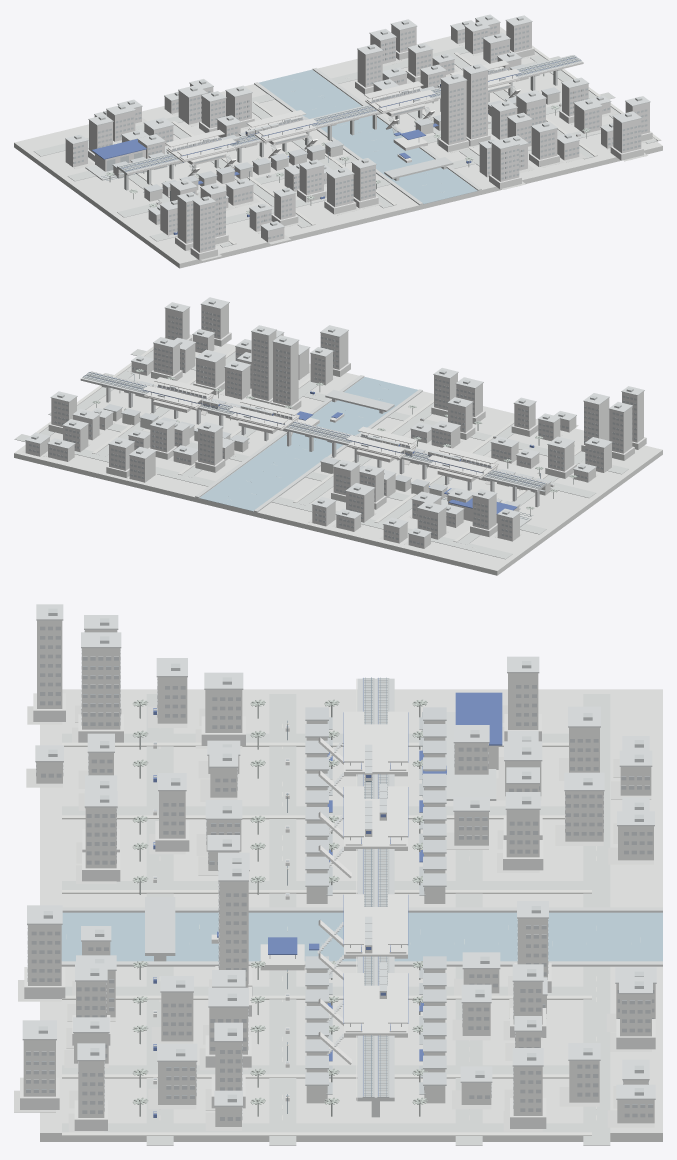
File: bangkok-city.gltf
3 renders of one model, top to bottom at view 1: azimuth 30°, elevation 25°; view 2: azimuth 150°, elevation 25°; view 3: azimuth 270°, elevation 25°, orthographic. The views are drawn at different scales.
Parts seen in each view (by area): view 1: city-building (×33), district-plinth, chao-phraya-river, west-road (×3), track-ballast (×2), local-street (×3), riverbank (×2), viaduct, river-road-bridge, depot-roof, viaduct-front-fascia, east-road; view 2: district-plinth, city-building (×31), chao-phraya-river, local-street (×5), west-road (×3), track-ballast (×2), viaduct, riverbank (×2), east-road, river-road-bridge; view 3: district-plinth, city-building (×30), chao-phraya-river, local-street (×6), west-road (×4), east-road (×4), sidewalk (×6), station-canopy (×8), track-ballast (×2), station-deck (×4), riverbank (×2), viaduct (+5 smaller).
Boxes of the visible parts, <box> form: city-building (×33): <box>65,21,649,252</box>; district-plinth: <box>14,27,662,268</box>; chao-phraya-river: <box>258,69,477,204</box>; west-road (×3): <box>33,94,390,241</box>; track-ballast (×2): <box>118,55,581,172</box>; local-street (×3): <box>171,53,594,227</box>; riverbank (×2): <box>254,68,481,205</box>; viaduct: <box>117,55,582,174</box>; river-road-bridge: <box>384,157,453,179</box>; depot-roof: <box>91,139,146,159</box>; viaduct-front-fascia: <box>127,62,583,175</box>; east-road: <box>331,46,468,83</box>; district-plinth: <box>14,334,662,575</box>; city-building (×31): <box>51,303,643,541</box>; chao-phraya-river: <box>199,377,417,511</box>; local-street (×5): <box>40,350,585,544</box>; west-road (×3): <box>272,412,628,559</box>; track-ballast (×2): <box>82,372,545,488</box>; viaduct: <box>80,371,546,491</box>; riverbank (×2): <box>195,375,422,512</box>; east-road: <box>14,434,214,486</box>; river-road-bridge: <box>325,389,394,411</box>; district-plinth: <box>40,689,662,1141</box>; city-building (×30): <box>23,620,654,1123</box>; chao-phraya-river: <box>61,912,662,961</box>; local-street (×6): <box>62,733,591,1132</box>; west-road (×4): <box>146,694,610,907</box>; east-road (×4): <box>146,966,610,1145</box>; sidewalk (×6): <box>62,742,591,1136</box>; station-canopy (×8): <box>344,711,407,1023</box>; track-ballast (×2): <box>362,678,389,1097</box>; station-deck (×4): <box>344,724,407,1035</box>; riverbank (×2): <box>61,907,662,966</box>; viaduct: <box>357,678,394,1101</box>.
Bounding box in the file's own units: 220 × 33.33 × 132.
